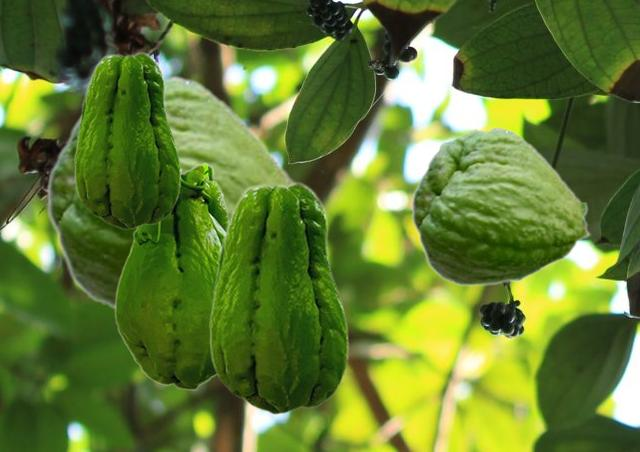sayote: (46, 74, 296, 310), (209, 181, 348, 414), (411, 126, 591, 286), (114, 162, 229, 390), (74, 51, 180, 229)
